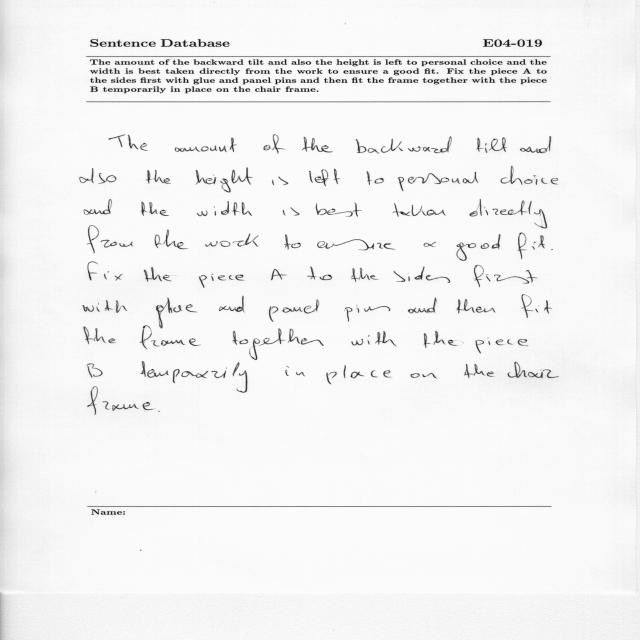word: (141, 361, 248, 393), (233, 328, 324, 360), (470, 200, 548, 229), (88, 387, 153, 415), (356, 136, 452, 154), (398, 172, 478, 191), (196, 168, 253, 193), (474, 265, 538, 287), (140, 326, 201, 349), (156, 298, 198, 329), (87, 226, 133, 254), (327, 365, 392, 384), (457, 234, 501, 261), (269, 299, 319, 322), (501, 166, 558, 185), (394, 267, 451, 283), (175, 138, 237, 152), (317, 240, 395, 251), (476, 338, 529, 354), (507, 362, 559, 378), (197, 201, 252, 216), (345, 305, 390, 322), (205, 233, 259, 247), (393, 203, 446, 217), (518, 233, 545, 260), (521, 295, 552, 318), (424, 331, 464, 348), (352, 331, 397, 346), (88, 262, 123, 281), (316, 203, 362, 217), (199, 274, 245, 288), (155, 230, 188, 249), (109, 135, 148, 151), (80, 168, 117, 184), (84, 327, 116, 345), (83, 300, 127, 313), (457, 299, 496, 313), (520, 136, 551, 153), (309, 169, 340, 186), (476, 137, 507, 153), (302, 137, 333, 152), (408, 298, 437, 314), (84, 199, 112, 215), (144, 267, 172, 282), (465, 364, 495, 378), (264, 135, 286, 154), (219, 296, 244, 312), (141, 202, 169, 216), (352, 268, 379, 282), (146, 170, 171, 184), (307, 267, 332, 280), (284, 234, 301, 250), (87, 363, 103, 378), (367, 171, 384, 185), (285, 366, 305, 376), (271, 269, 287, 280), (410, 373, 437, 379), (283, 207, 300, 216), (272, 177, 288, 186), (424, 242, 436, 247), (551, 249, 553, 250), (158, 411, 160, 411)
